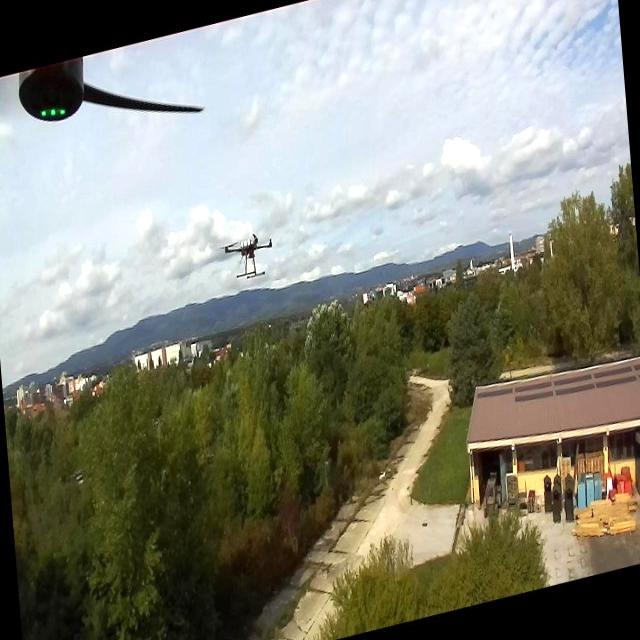drone: (218, 223, 276, 290)
